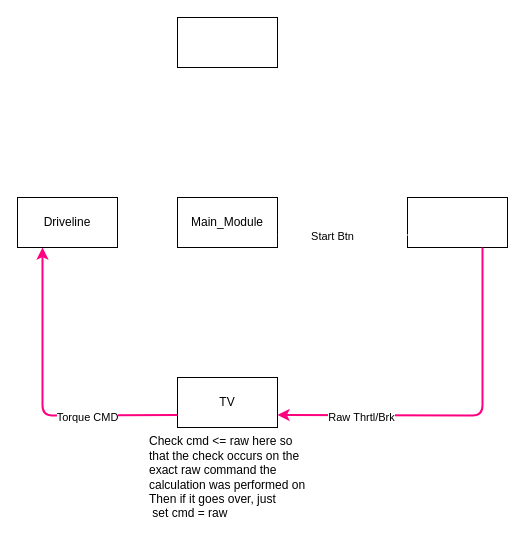
This 525x538 diagram has some shape labels left out. Each missing label, with the centre of its shape:
Dashboard: the point at 457,222
Precharge: the point at 227,42
